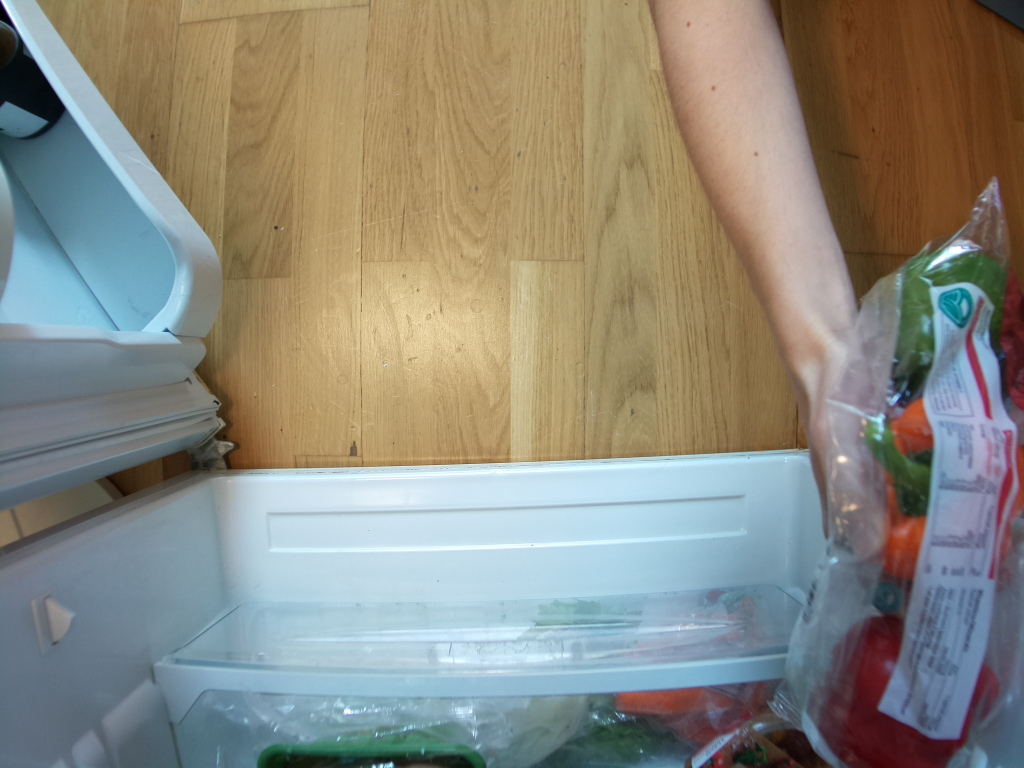pepper: (865, 398, 1024, 594), (811, 614, 1005, 768), (892, 245, 1004, 390)
